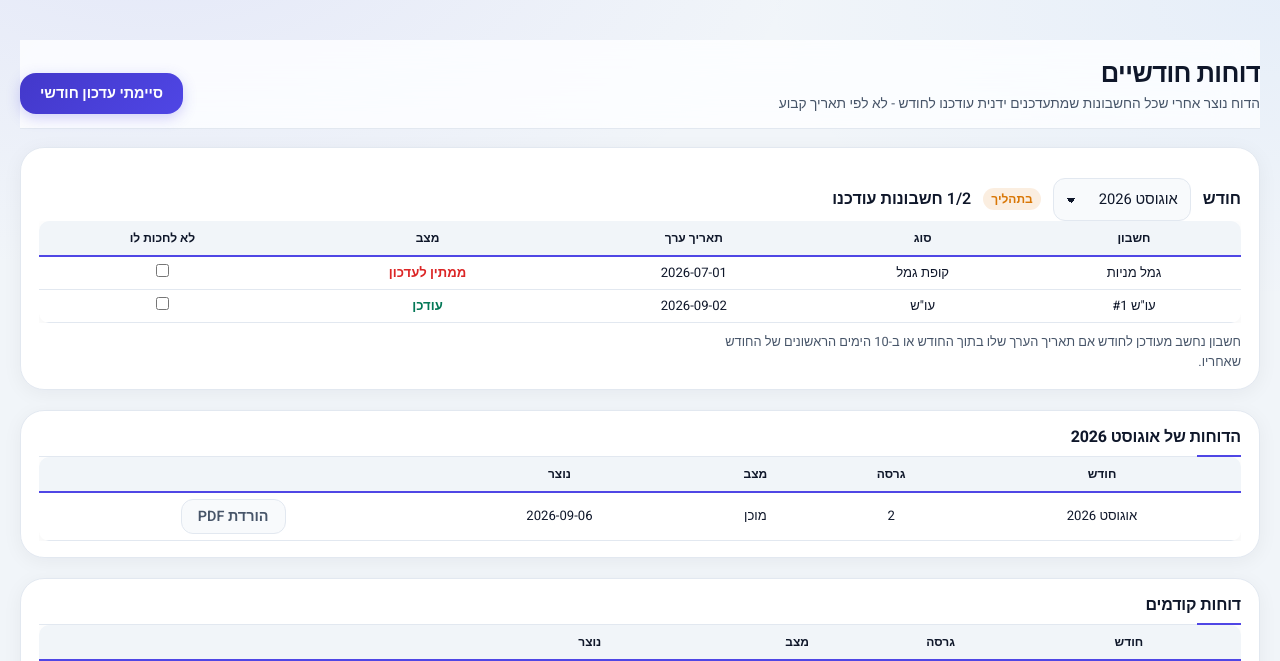
Test: "Finished monthly update" completes the month
Click the button "סיימתי עדכון חודשי" at (102, 94), box [20,73,183,114]
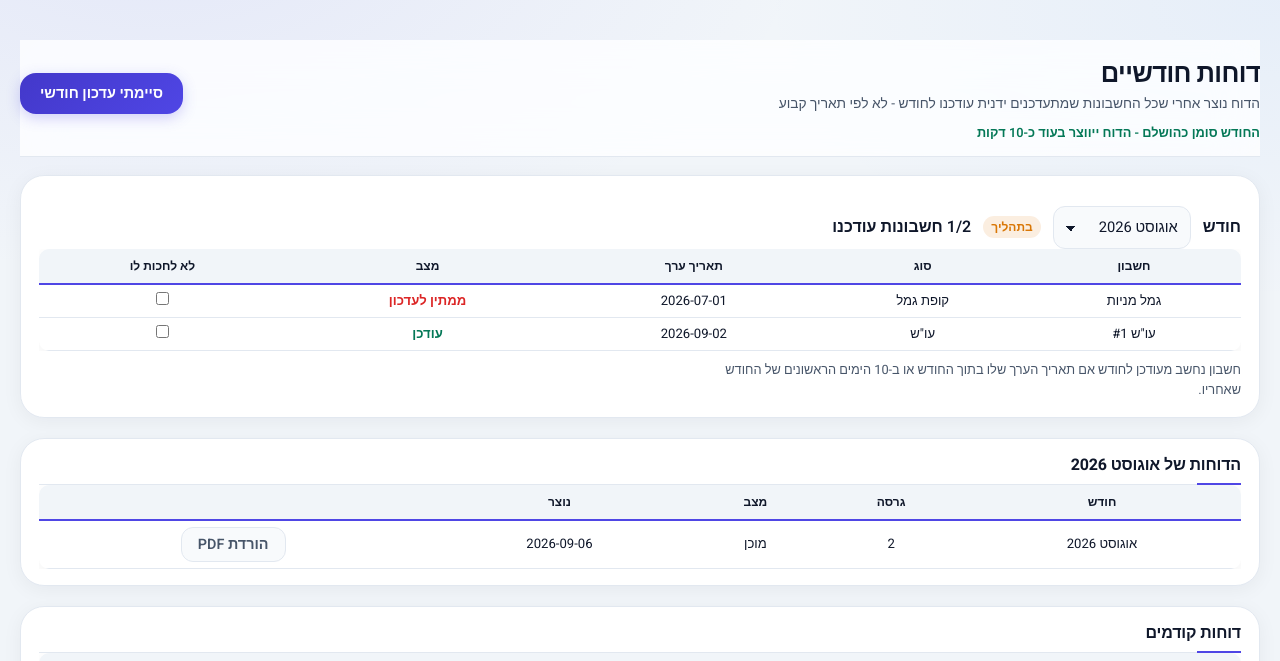
expect the message shows "הדוח ייווצר בעוד כ-10 דקות": met, box [977,124,1260,142]
